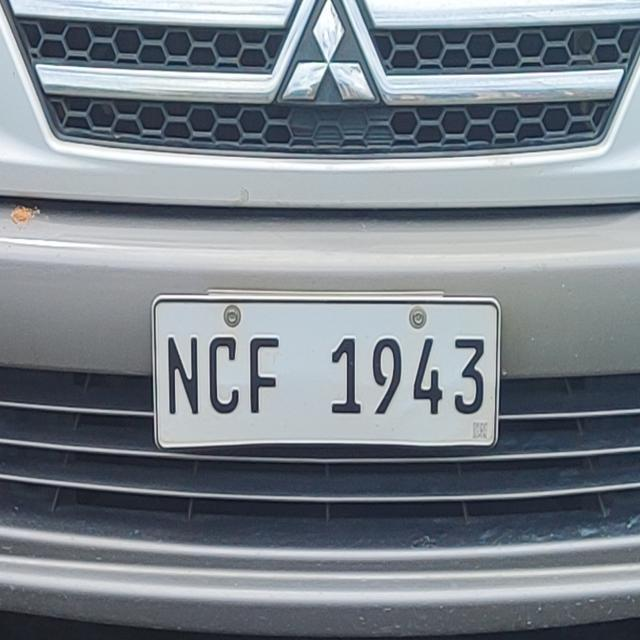LicensePlate: (145, 286, 511, 454)
